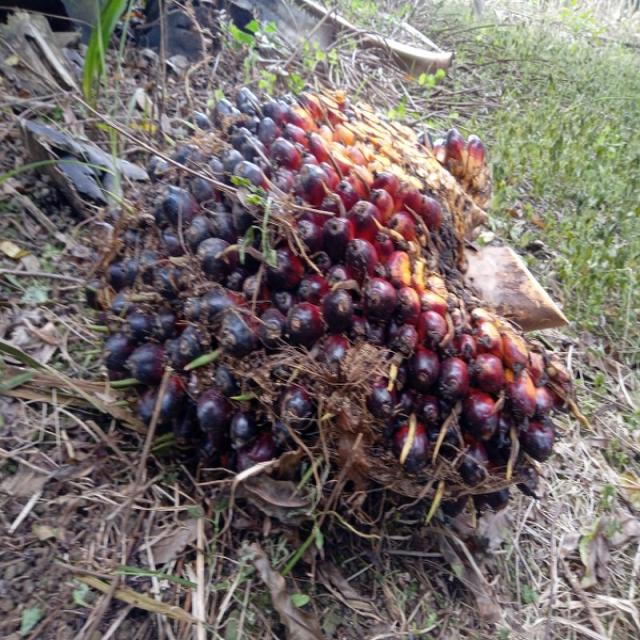fraksi 00: (82, 91, 540, 550)
